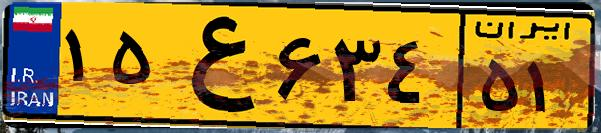1: (57, 26, 110, 100), (525, 38, 570, 115)
3: (330, 28, 385, 110)
4: (385, 28, 445, 110)
5: (475, 38, 525, 113), (110, 28, 158, 98)
6: (270, 28, 330, 110)
ع: (158, 12, 270, 120)
